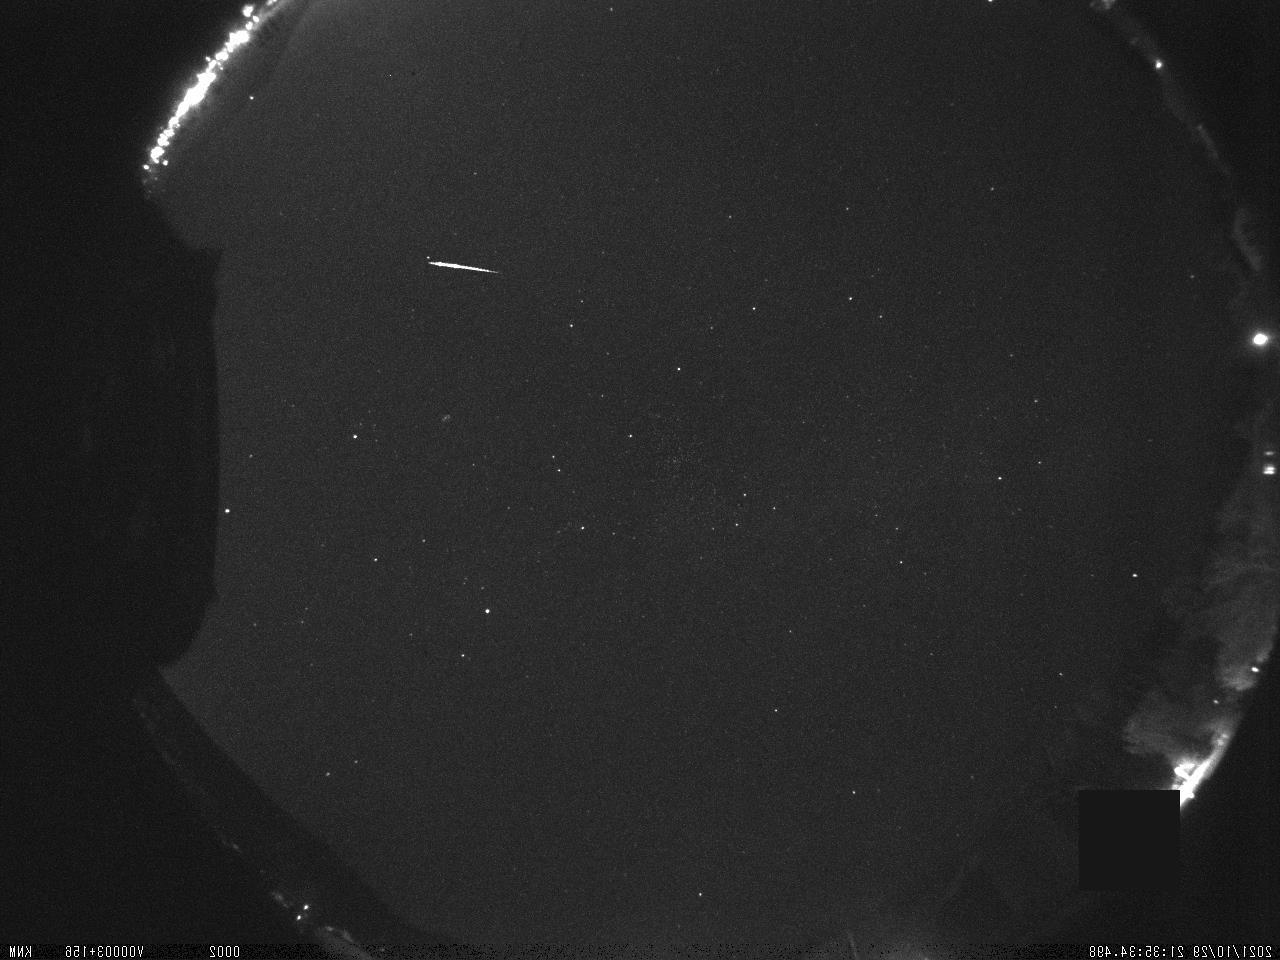meteor: (407, 250, 513, 281)
